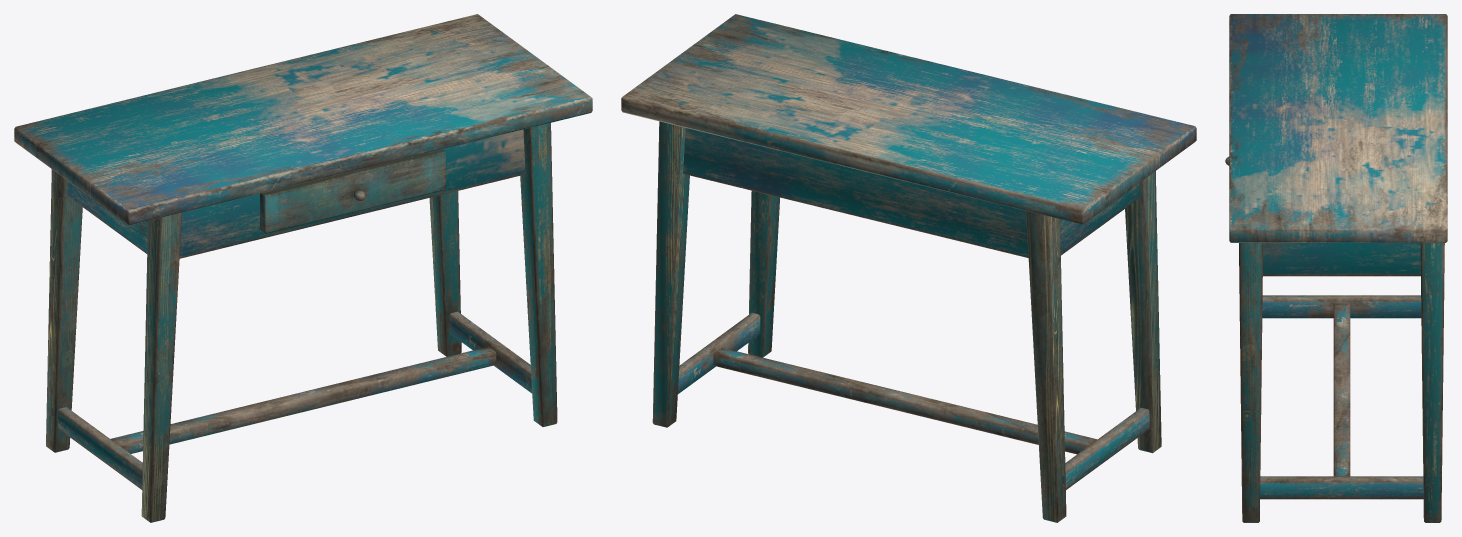
File: table_test3.glb
3 renders of one model, left to right at view 1: azimuth 30°, elevation 25°; view 2: azimuth 150°, elevation 25°; view 3: azimuth 270°, elevation 25°, orthographic. The views are drawn at different scales.
Visible parts, largest first — view 1: stolik001_1, stoli001_szuflada_0; view 2: stolik001_1; view 3: stolik001_1.
Part boxes in pixels (x1=…): stolik001_1: x1=14, y1=14, x2=592, y2=522; stoli001_szuflada_0: x1=260, y1=149, x2=445, y2=233; stolik001_1: x1=621, y1=14, x2=1196, y2=522; stolik001_1: x1=1229, y1=14, x2=1447, y2=522.
Bounding box in the file's own units: 1.23 × 0.82 × 0.536.
Materials: 2 (2 with a texture image).
